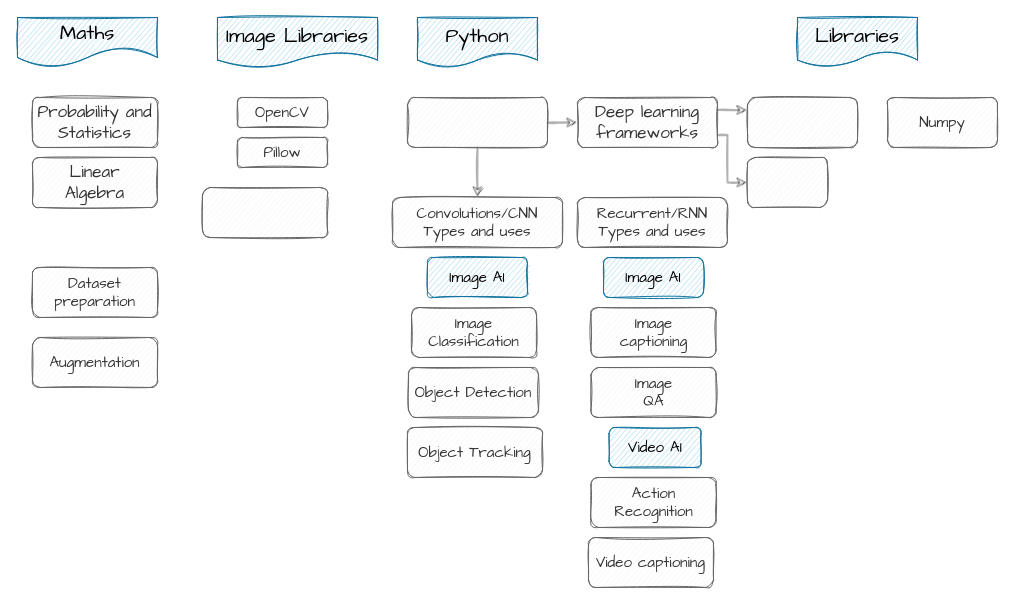
Image size: 1015x605. Some labels were removed from this diagram. The box of each missing label's shape, as (x1, y1, x2, y2) in pixels:
Neural Network Basics: (406, 96, 548, 148)
PyTorch: (746, 156, 828, 208)
Tensorflow: (746, 96, 858, 148)
